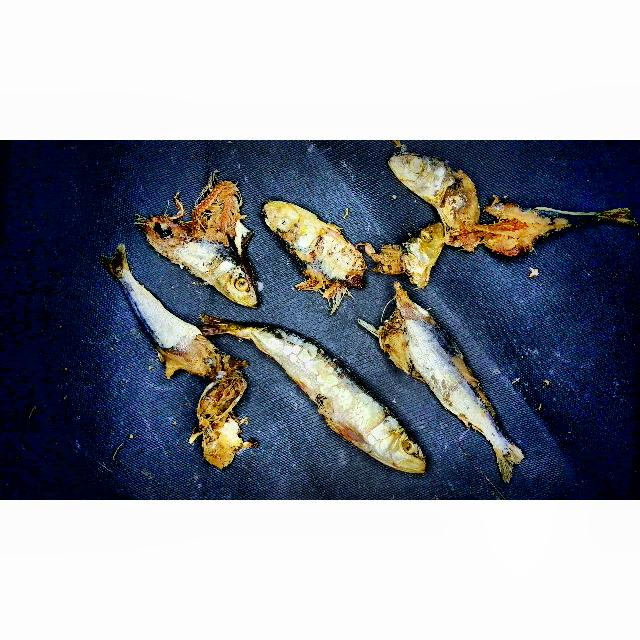Rejected_Body: (371, 283, 499, 428), (251, 314, 366, 435), (467, 200, 592, 263), (129, 299, 218, 380)
Rejected_Head: (137, 174, 268, 314), (258, 193, 369, 311), (180, 371, 262, 472), (386, 145, 475, 225), (348, 413, 436, 487), (373, 217, 445, 287)
Rejected_Tail: (484, 416, 531, 491), (98, 235, 144, 299), (582, 192, 636, 243), (196, 305, 261, 347)
